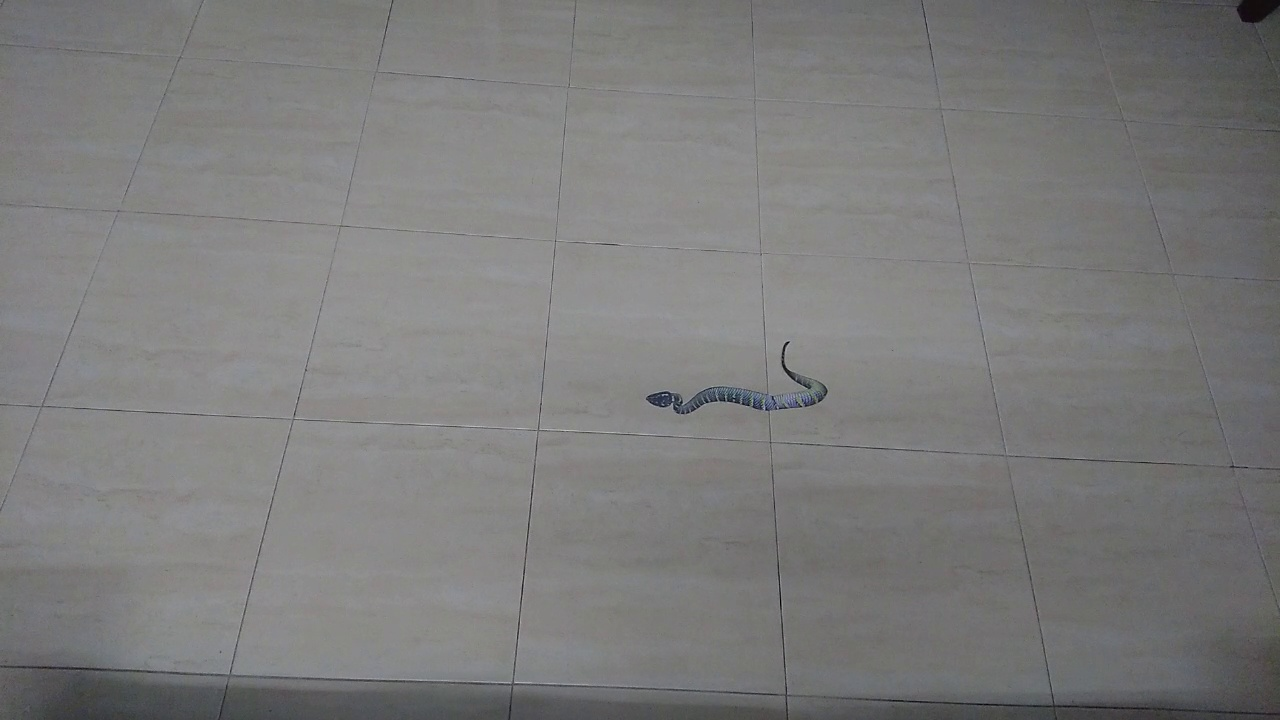snake: (629, 328, 847, 431)
